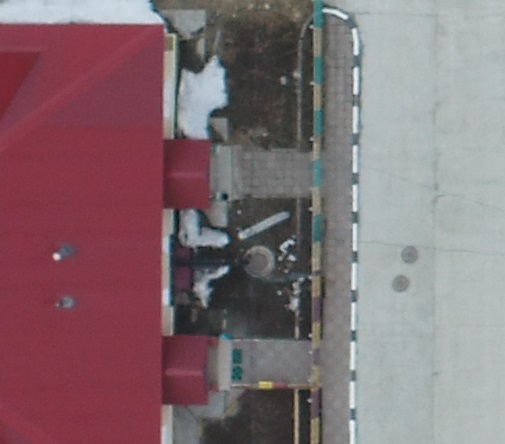opora: (234, 208, 293, 242)
